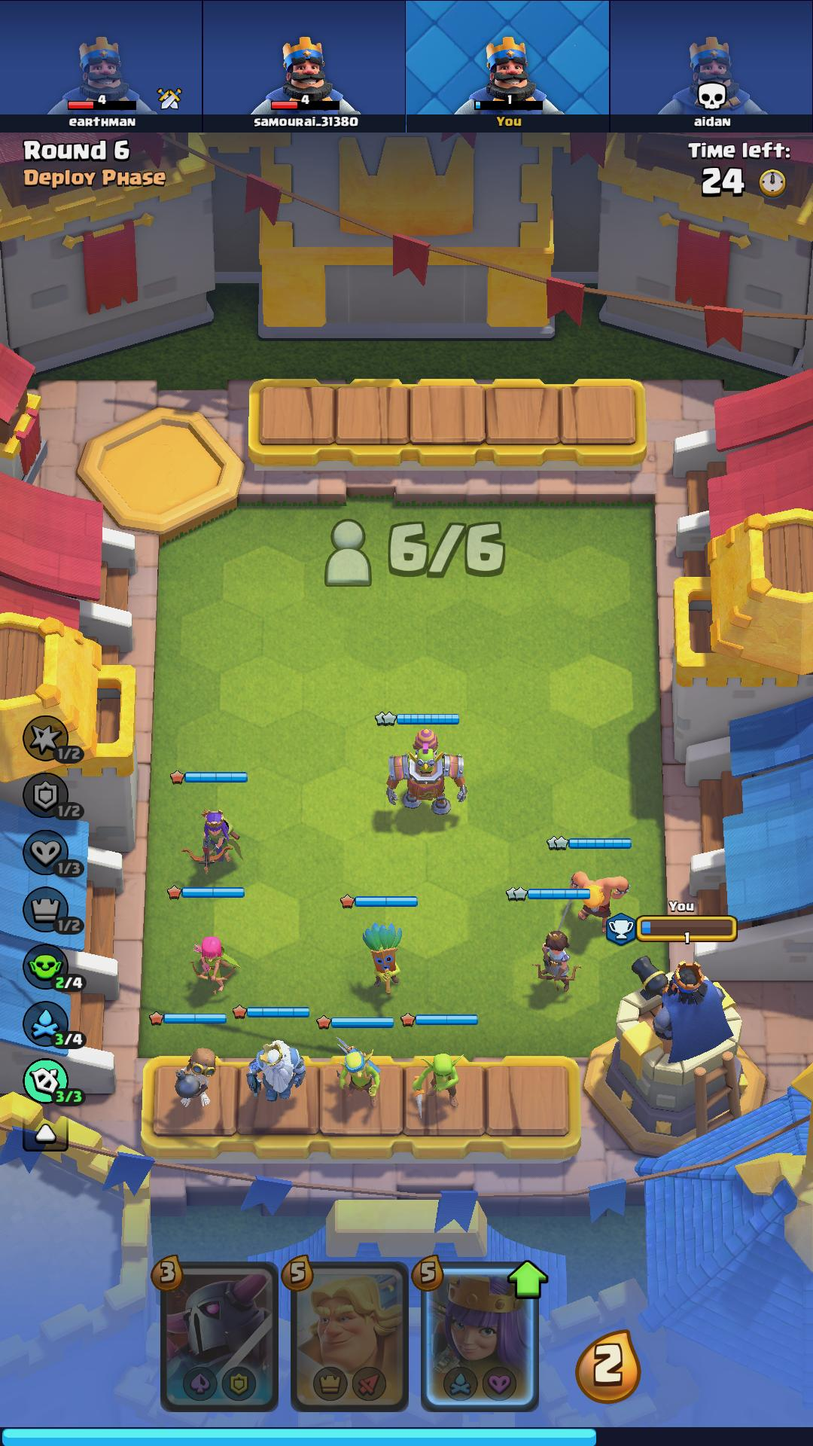archer: (183, 925, 242, 990)
barbarian: (552, 860, 636, 929)
bomber: (161, 1044, 226, 1113)
dart: (348, 918, 414, 999)
ghost: (242, 1026, 312, 1112)
goblin: (399, 1042, 472, 1115)
hand-golden: (296, 1267, 409, 1407)
hand-pekka: (162, 1267, 275, 1407)
hand-queen: (425, 1267, 536, 1406)
machine: (378, 727, 474, 828)
princess: (519, 923, 590, 999)
queen: (184, 807, 251, 871)
spear: (324, 1028, 391, 1106)
upgrade: (511, 1259, 550, 1300)
